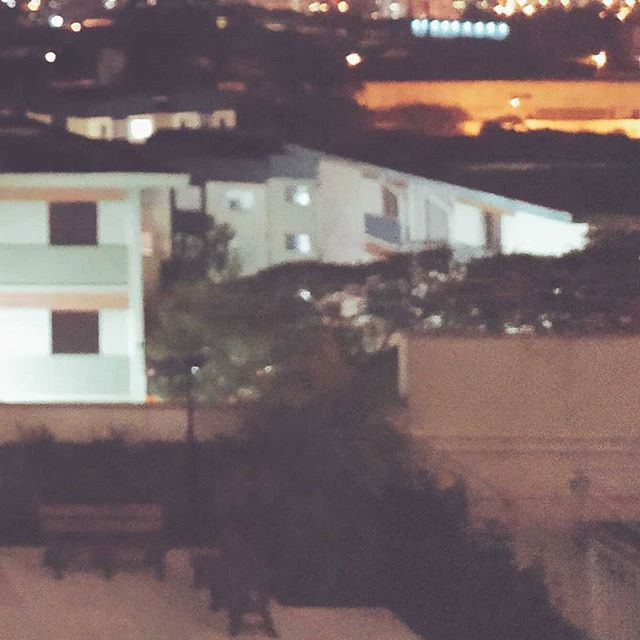building: (264, 140, 640, 345), (1, 125, 177, 418)
